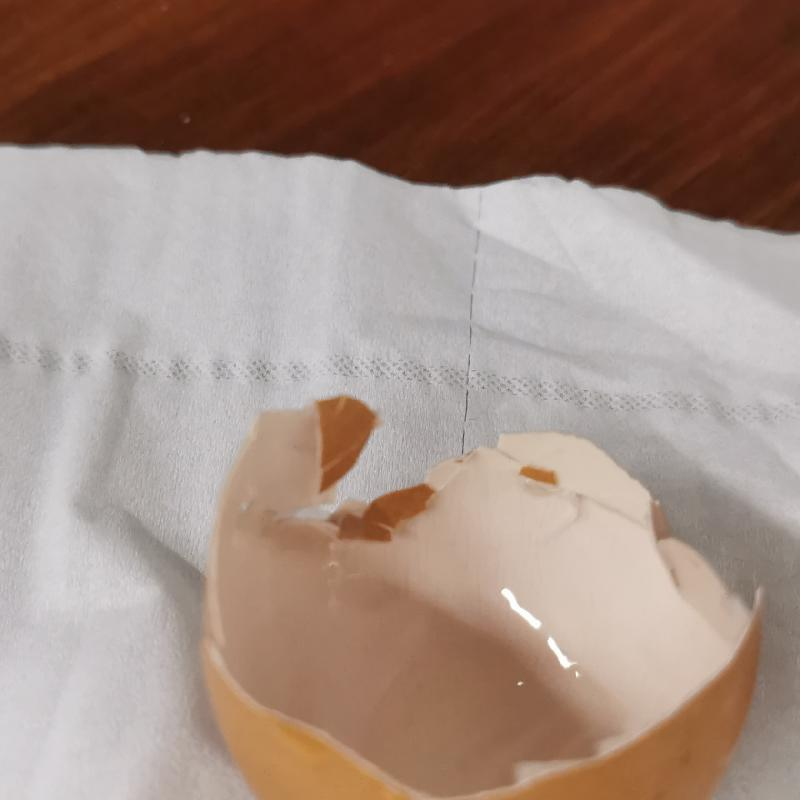eggshell: (182, 396, 762, 800)
